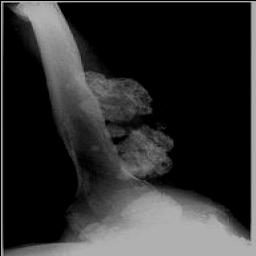cancer: (59, 68, 175, 178)
